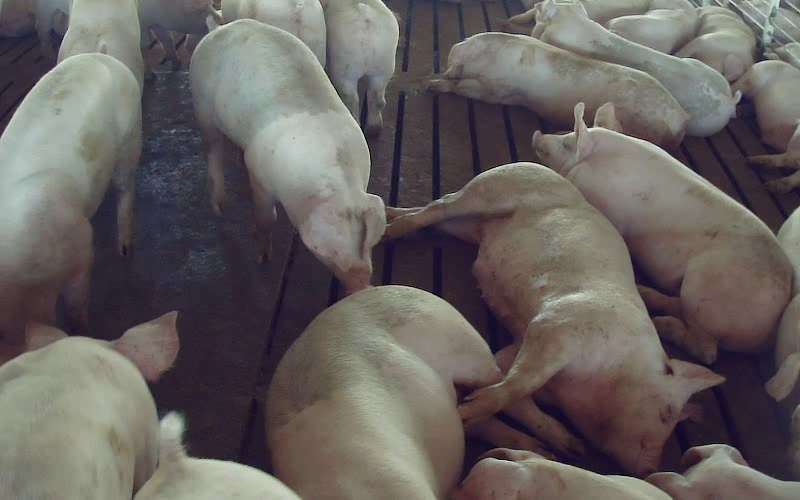pig: (388, 162, 723, 474), (533, 103, 791, 362), (190, 15, 385, 293), (266, 287, 500, 499), (0, 54, 140, 361), (0, 312, 178, 499), (426, 32, 688, 145), (533, 0, 740, 136), (321, 0, 398, 134), (733, 60, 799, 191), (221, 0, 325, 66), (675, 7, 755, 81), (605, 0, 699, 53)
